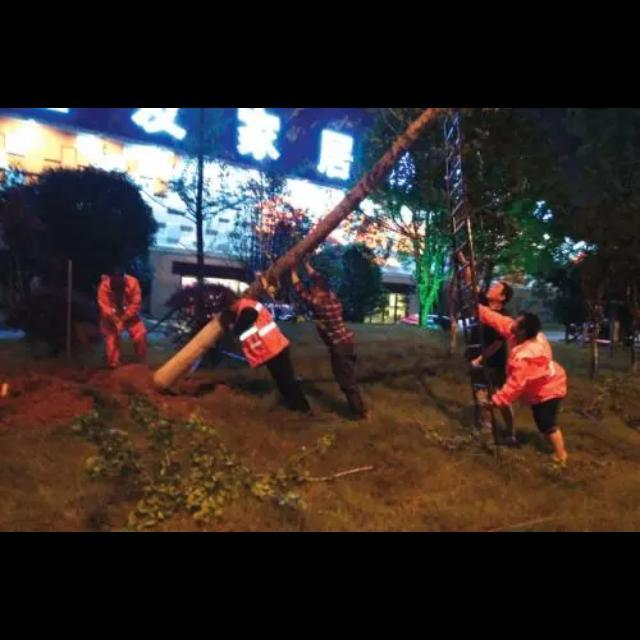fallen_tree: (148, 109, 456, 394)
